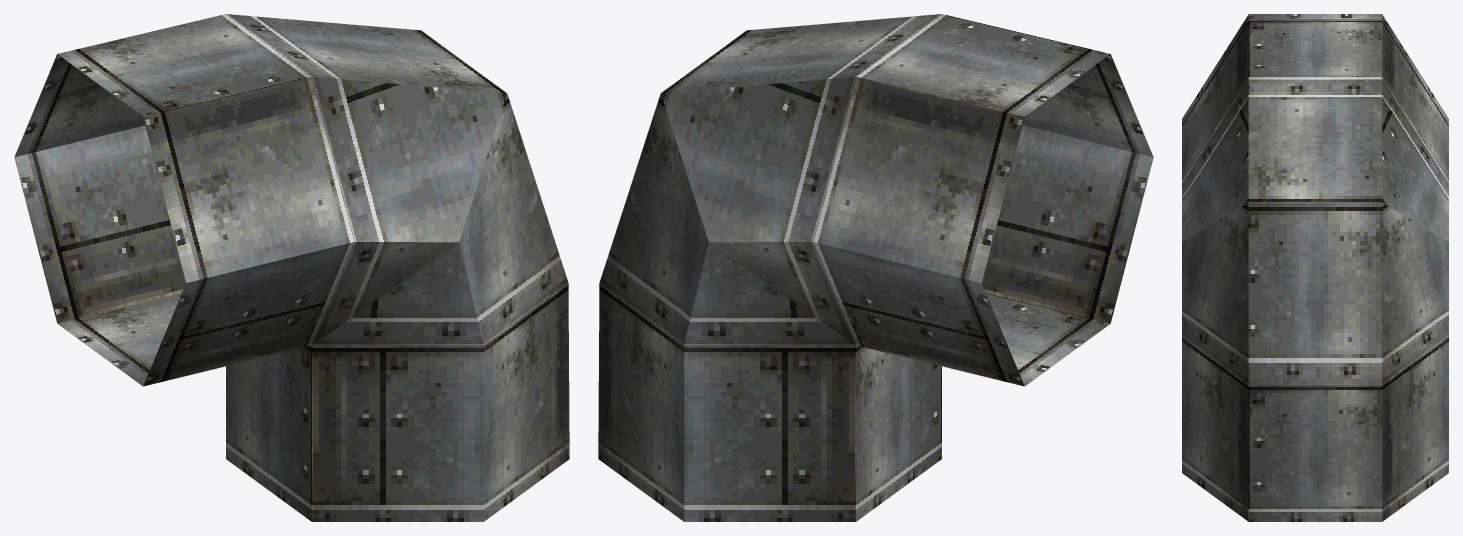
The model's file is pipe_corner.glb.
3 renders of one model, left to right at view 1: azimuth 30°, elevation 25°; view 2: azimuth 150°, elevation 25°; view 3: azimuth 270°, elevation 25°, orthographic. The views are drawn at different scales.
Visible parts, largest first — view 1: pipe_corner; view 2: pipe_corner; view 3: pipe_corner.
Part boxes in pixels (box(x1,y1,x2,y2)): pipe_corner: box(14, 14, 569, 521); pipe_corner: box(598, 14, 1153, 521); pipe_corner: box(1182, 14, 1448, 521).
Bounding box in the file's own units: 0.7165 × 0.7165 × 0.5.
1 material, 1 textured.
